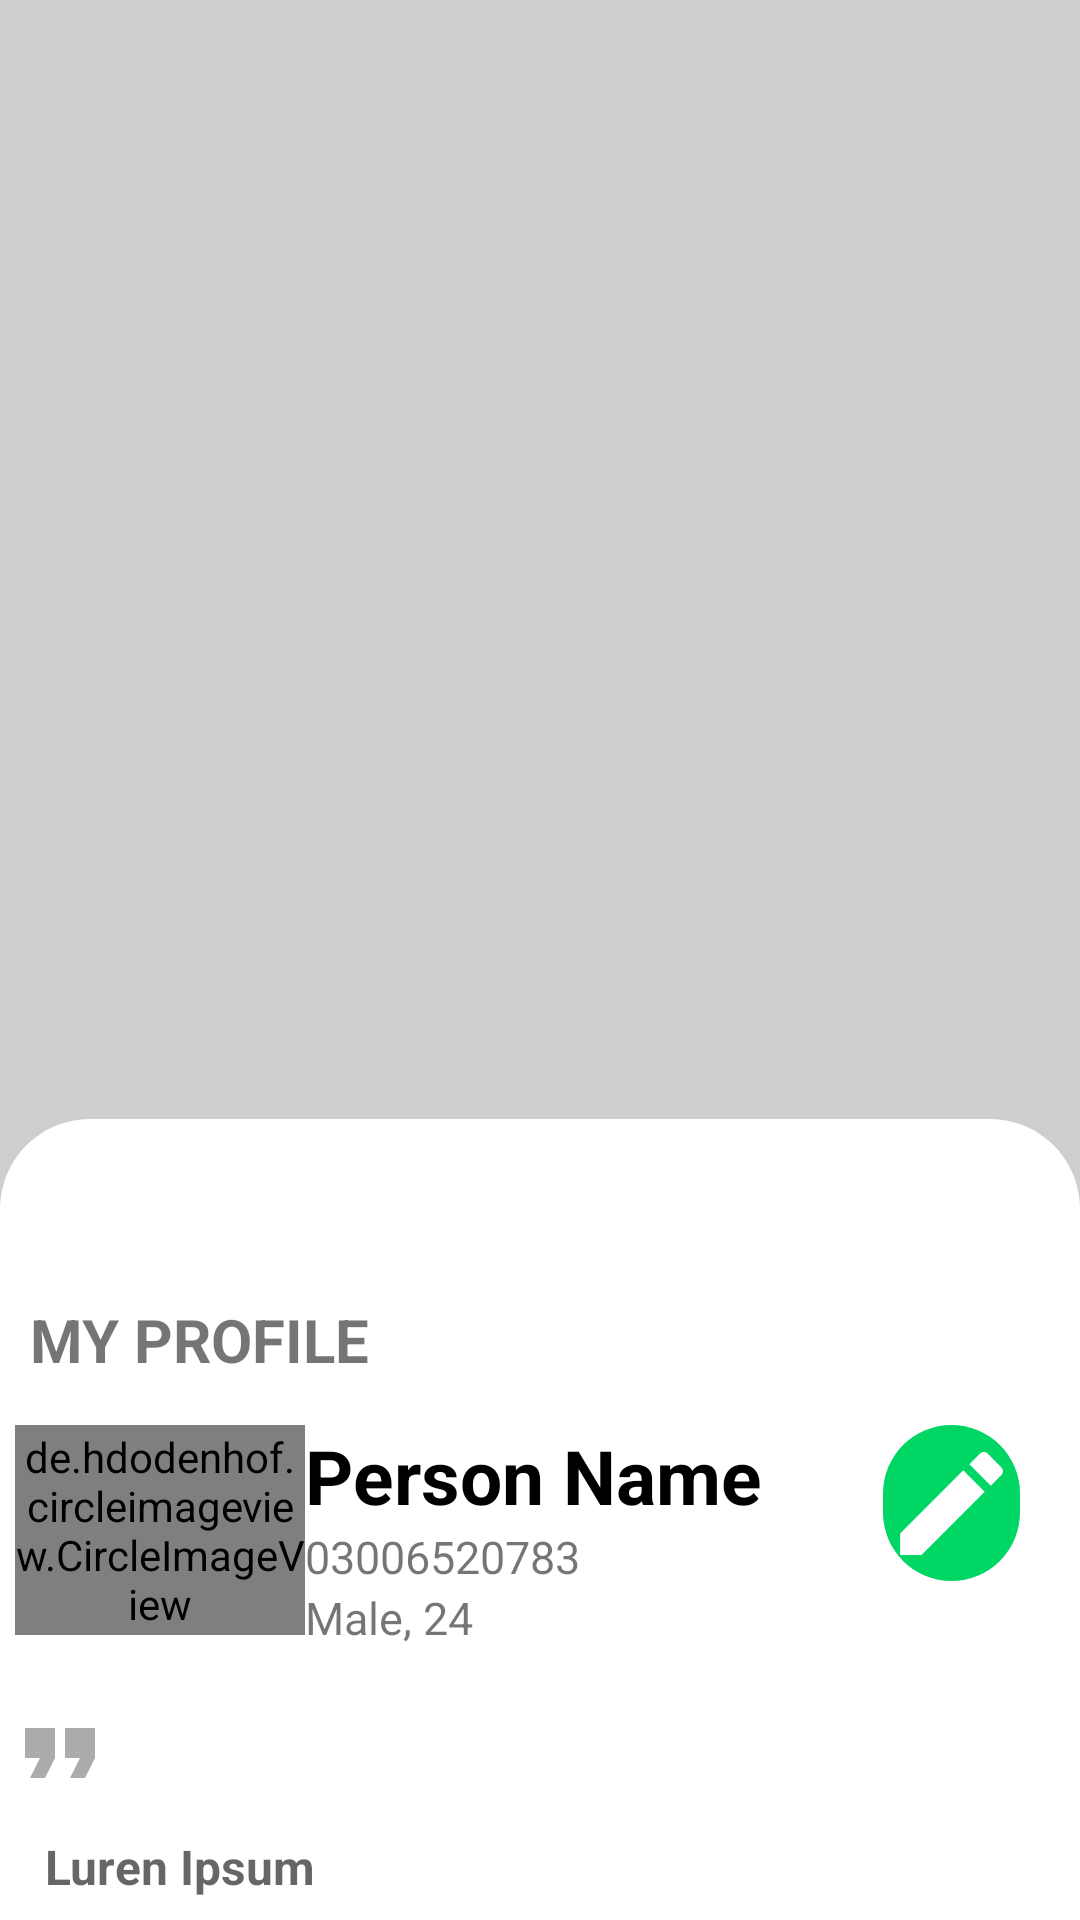

Screen size 1080 × 1920. Icon name, then its center in pixels as [x,y]:
comma: [60,1753]
edit: [951,1503]
